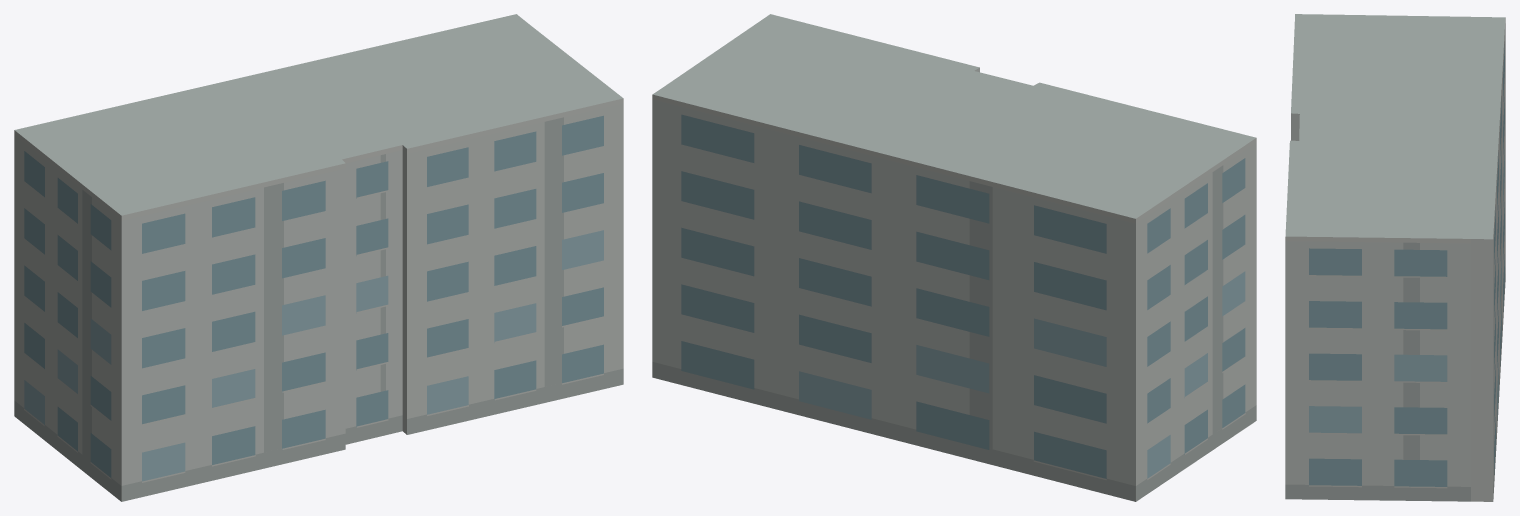
Rendered from survey-upis-32919626.glb.
3 views of the same model, side by side, from view 1: azimuth 30°, elevation 25°; view 2: azimuth 150°, elevation 25°; view 3: azimuth 270°, elevation 25° (orthographic). The views are drawn at different scales.
Visible parts, largest first — view 1: survey-upis-32919626.tmp; view 2: survey-upis-32919626.tmp; view 3: survey-upis-32919626.tmp.
Boxes of the visible parts, <box> form: survey-upis-32919626.tmp: <box>14,14,623,501</box>; survey-upis-32919626.tmp: <box>652,14,1256,501</box>; survey-upis-32919626.tmp: <box>1285,14,1505,501</box>.
Size of the model in its own units: 25.57 by 13.9 by 10.56.
